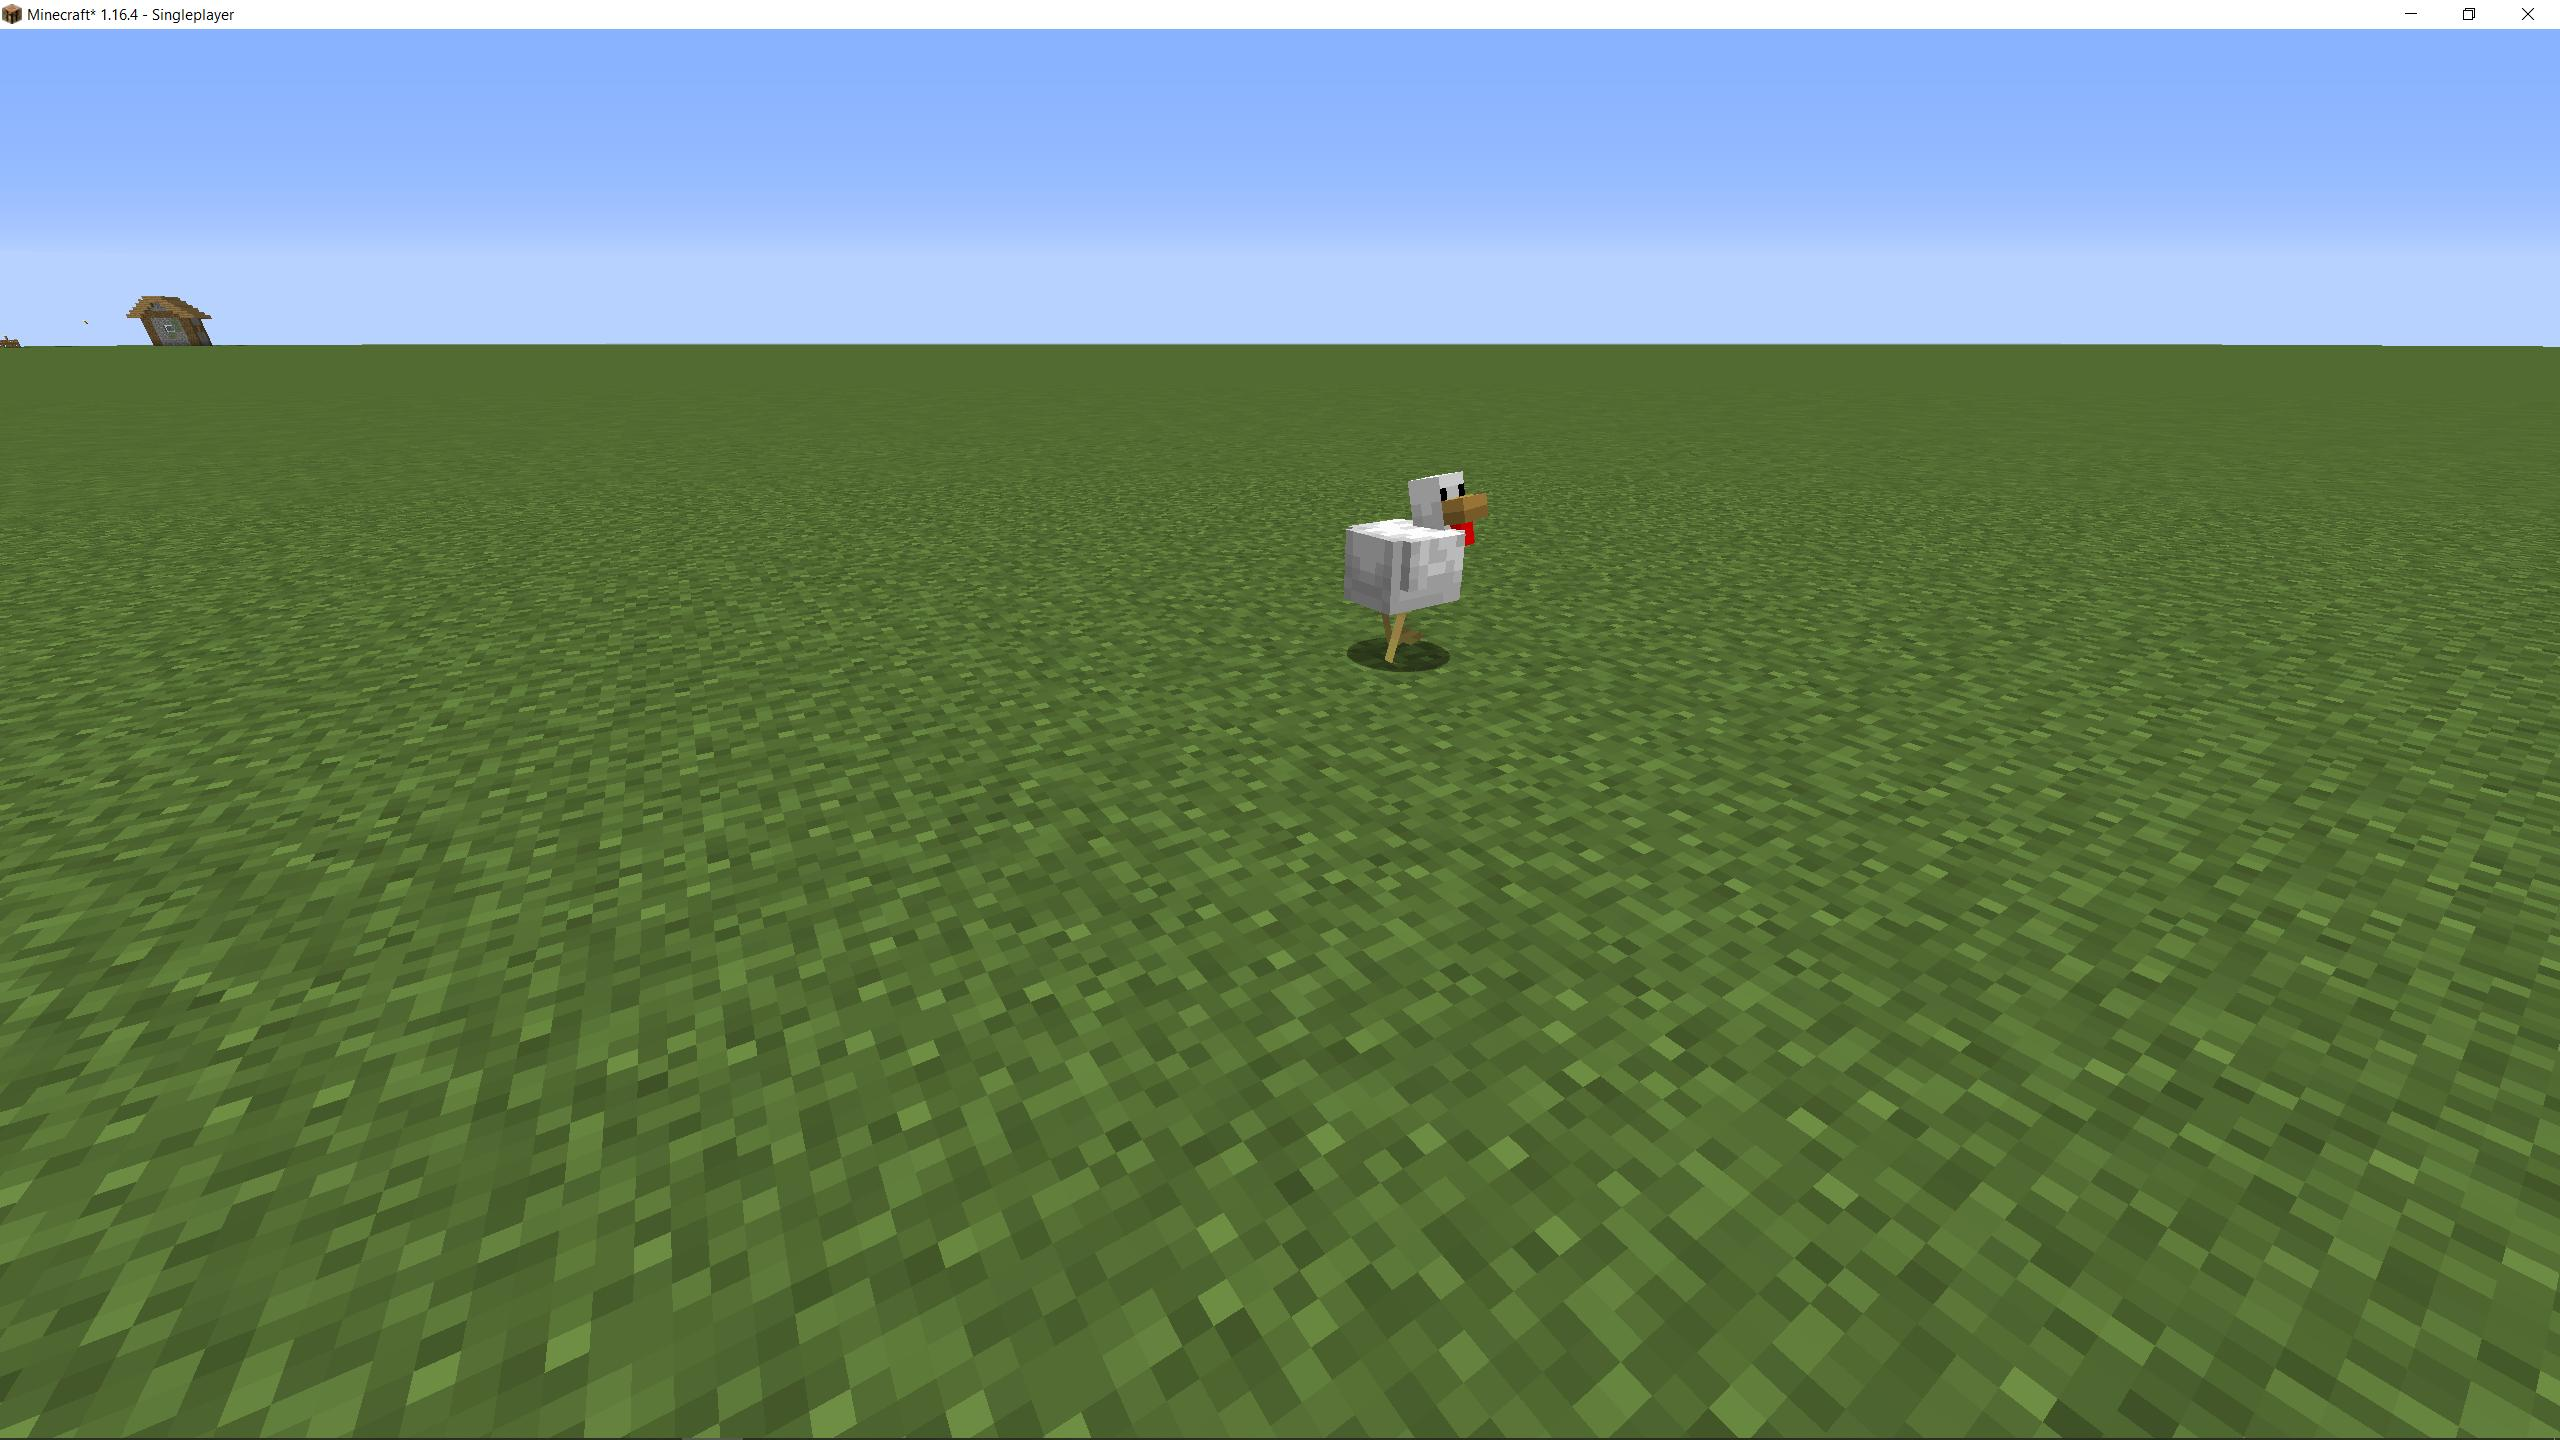chicken: (1336, 457, 1495, 677)
